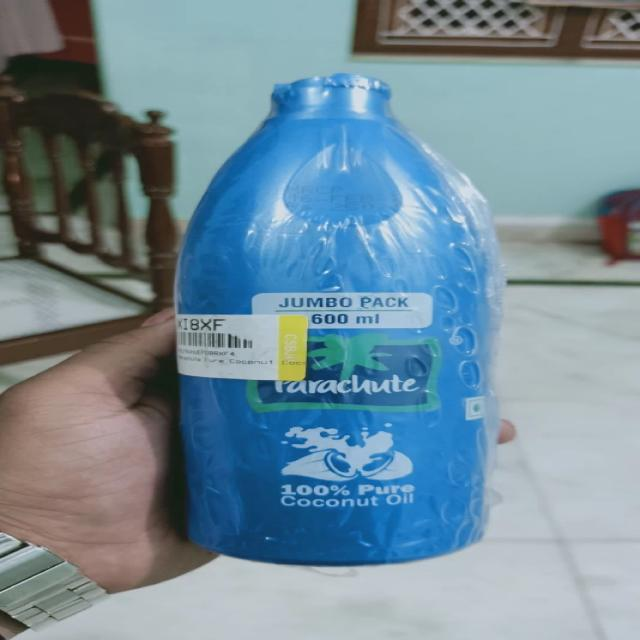parachute_oil: (171, 60, 514, 571)
